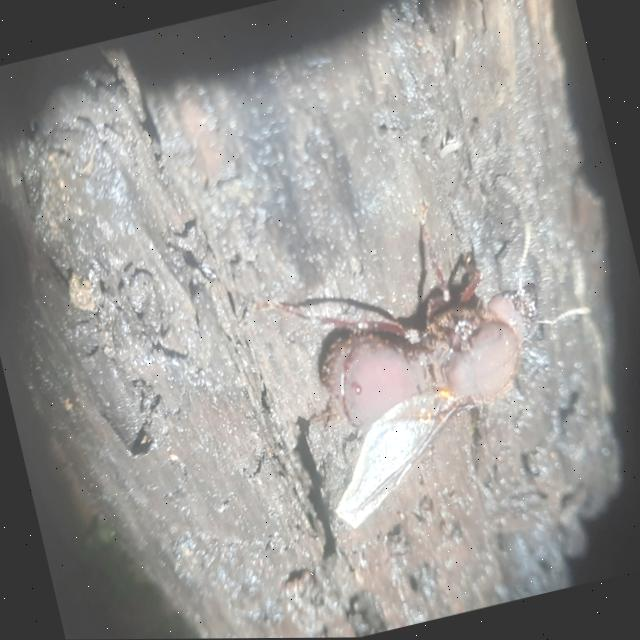Alive-Female-Alate: (259, 171, 628, 536)
